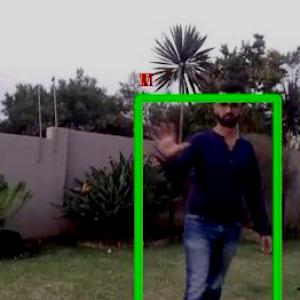follow_hand: (146, 111, 193, 160)
